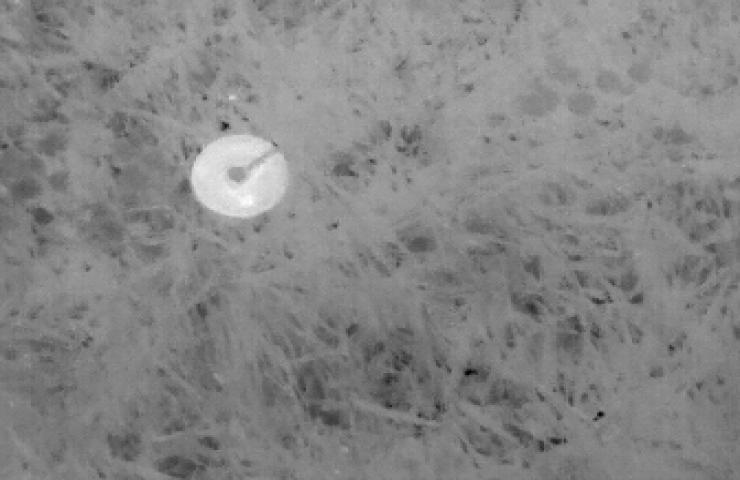landmines: (188, 133, 294, 222)
